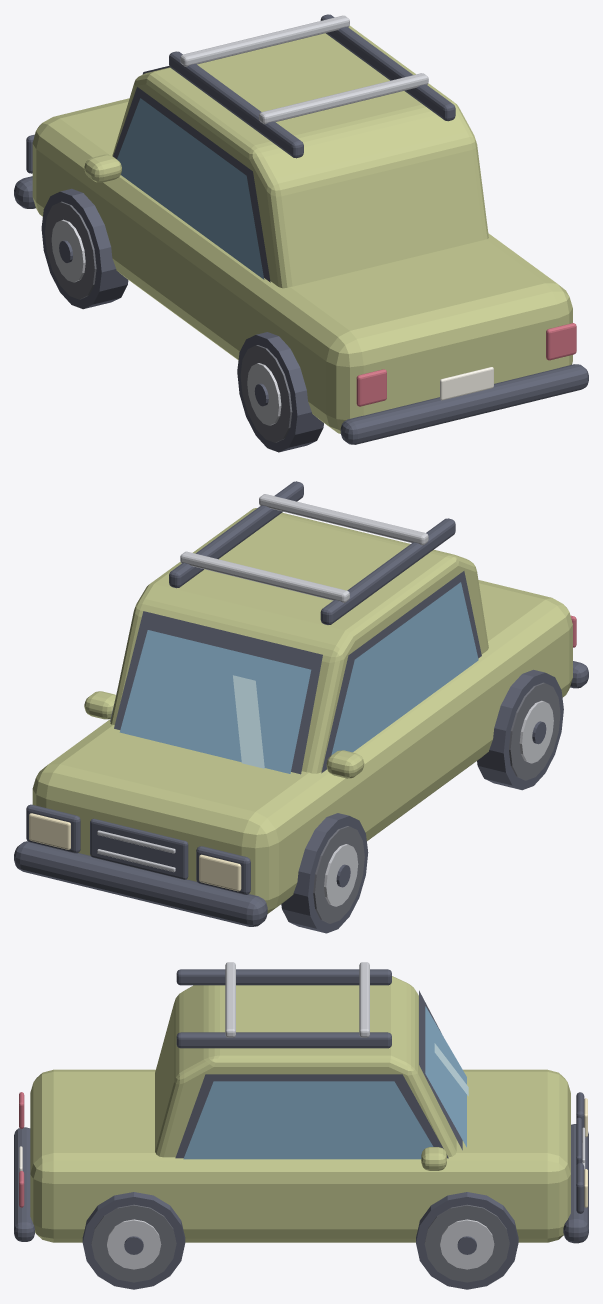
Rendered from suv.glb.
3 views of the same model, one above another, from view 1: azimuth 30°, elevation 25°; view 2: azimuth 150°, elevation 25°; view 3: azimuth 270°, elevation 25° (orthographic). The views are drawn at different scales.
Parts seen in each view (by area): view 1: Rounded_body, Shaped_passenger_cabin, Side_glass, Rear_bumper, Rubber_tire, Rubber_tire.002, Roof_rack, Roof_rack.001, Rack_crossbar, Rack_crossbar.001, Side_window_seal, Wheel_sidewall.002 (+7 smaller); view 2: Rounded_body, Shaped_passenger_cabin, Blue_windscreen, Side_glass, Front_bumper, Dark_windscreen_seal, Rubber_tire, Rubber_tire.002, Grille, Roof_rack, Roof_rack.001, Rack_crossbar (+13 smaller); view 3: Rounded_body, Shaped_passenger_cabin, Side_glass.001, Roof_rack.001, Roof_rack, Side_window_seal.001, Wheel_sidewall.001, Wheel_sidewall.003, Rubber_tire.003, Rubber_tire.001, Blue_windscreen, Silver_hub.001 (+8 smaller).
Boxes of the visible parts, x1,y1,x2,y2 form: Rounded_body: (32, 98, 572, 433); Shaped_passenger_cabin: (112, 26, 488, 288); Side_glass: (117, 98, 264, 279); Rear_bumper: (340, 364, 588, 444); Rubber_tire: (41, 188, 128, 309); Rubber_tire.002: (237, 332, 323, 452); Roof_rack: (169, 51, 303, 158); Roof_rack.001: (320, 14, 455, 121); Rack_crossbar: (180, 15, 349, 66); Rack_crossbar.001: (259, 73, 428, 124); Side_window_seal: (113, 87, 270, 282); Wheel_sidewall.002: (240, 345, 292, 442); Rounded_body: (32, 580, 572, 913); Shaped_passenger_cabin: (110, 508, 488, 773); Blue_windscreen: (119, 630, 311, 773); Side_glass: (331, 582, 478, 755); Front_bumper: (14, 841, 267, 926); Dark_windscreen_seal: (114, 611, 322, 774); Rubber_tire: (281, 813, 368, 933); Rubber_tire.002: (477, 669, 563, 790); Grille: (90, 818, 188, 879); Roof_rack: (320, 518, 455, 624); Roof_rack.001: (169, 481, 303, 588); Rack_crossbar: (180, 551, 349, 602); Rounded_body: (30, 1069, 570, 1242); Shaped_passenger_cabin: (155, 976, 456, 1157); Side_glass.001: (183, 1081, 433, 1159); Roof_rack.001: (176, 1032, 391, 1048); Roof_rack: (176, 969, 391, 985); Side_window_seal.001: (175, 1074, 448, 1158); Wheel_sidewall.001: (424, 1204, 509, 1282); Wheel_sidewall.003: (91, 1204, 176, 1282); Rubber_tire.003: (82, 1192, 185, 1289); Rubber_tire.001: (416, 1192, 518, 1289); Blue_windscreen: (425, 1006, 466, 1147); Silver_hub.001: (440, 1219, 494, 1269).
Bounding box in the file's own units: 2.36 × 2.26 × 4.93.
